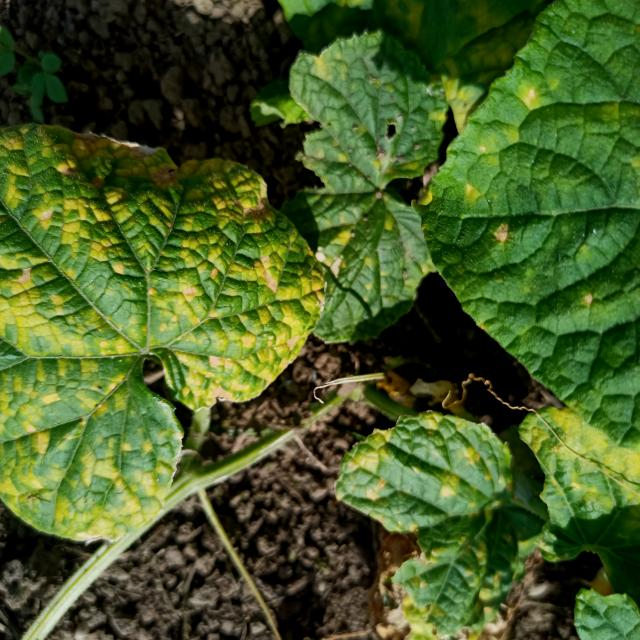disease_cucumber: (1, 130, 310, 536)
